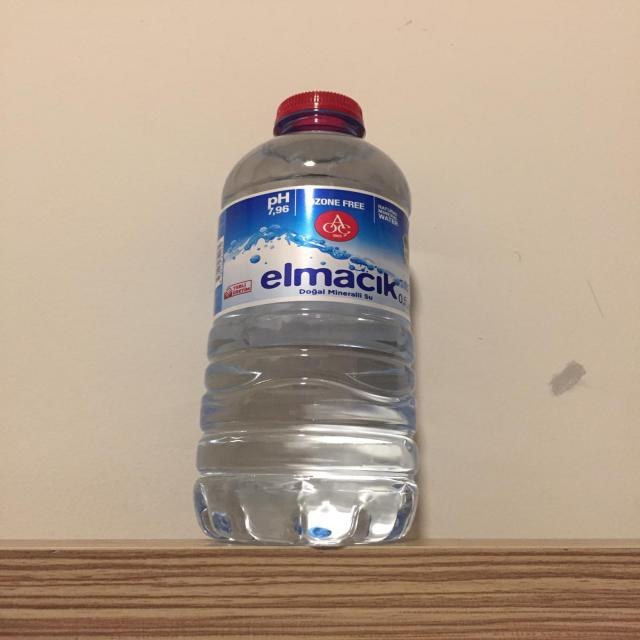bottle: (190, 62, 424, 552)
